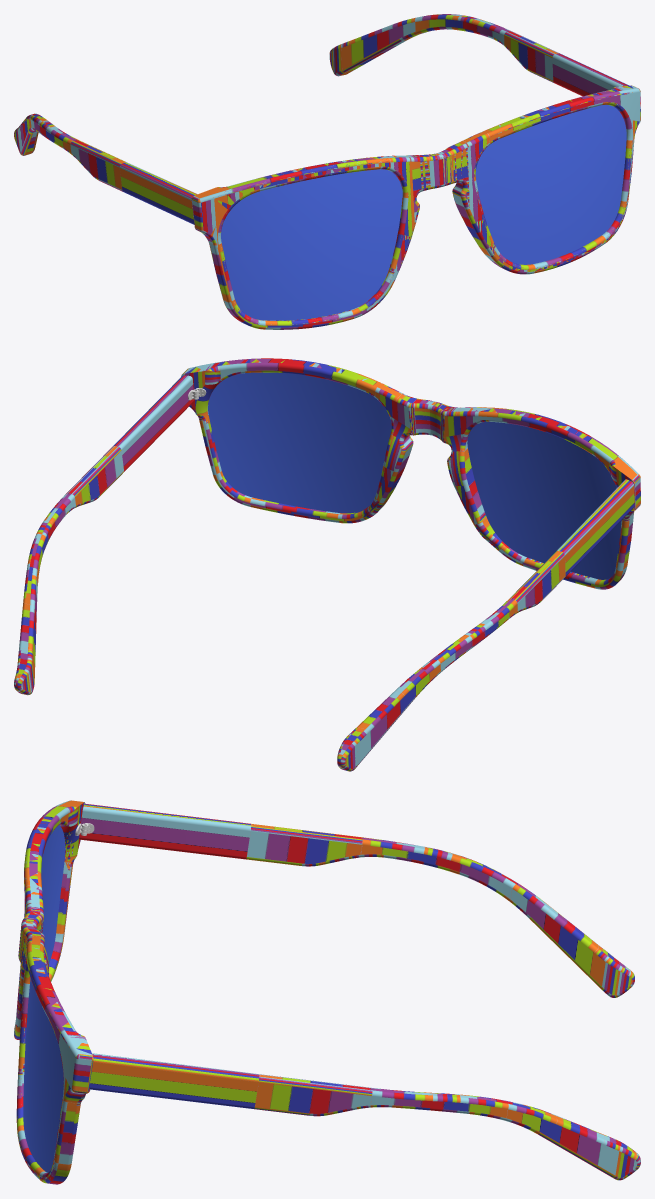
Rendered from textured_attempt_2.glb.
The picture shows the model from 3 angles, top to bottom: view 1: azimuth 30°, elevation 25°; view 2: azimuth 150°, elevation 25°; view 3: azimuth 270°, elevation 25°; orthographic projection. The views are drawn at different scales.
Visible parts, largest first — view 1: Renders.003, Renders.014, Renders.015, Renders.007, Renders.016; view 2: Renders.014, Renders.015, Renders.003, Renders.016, Renders.007; view 3: Renders.016, Renders.007, Renders.015, Renders.014, Renders.003.
Part boxes in pixels (x1,y1,x2,y2): Renders.003: [221, 169, 402, 320]; Renders.014: [475, 104, 626, 264]; Renders.015: [191, 85, 640, 329]; Renders.007: [329, 14, 628, 96]; Renders.016: [14, 113, 197, 224]; Renders.014: [208, 372, 391, 513]; Renders.015: [181, 358, 640, 589]; Renders.003: [467, 421, 621, 579]; Renders.016: [337, 479, 634, 771]; Renders.007: [14, 375, 194, 695]; Renders.016: [79, 803, 634, 997]; Renders.007: [89, 1053, 640, 1180]; Renders.015: [14, 800, 93, 1184]; Renders.014: [23, 978, 63, 1172]; Renders.003: [41, 825, 65, 963].
Bounding box in the file's own units: 0.1438 × 0.048 × 0.1477.
Materials: 3 (1 with a texture image).
